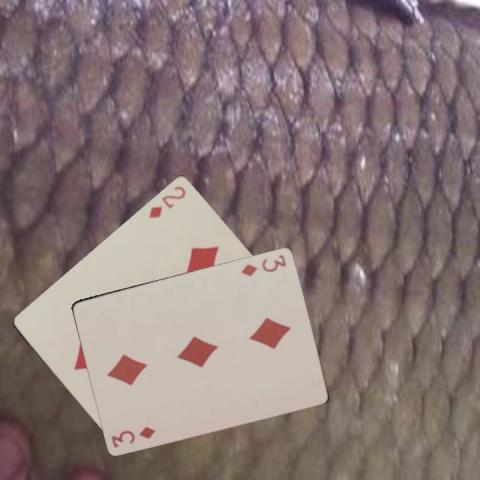2d: (146, 183, 188, 220)
3d: (238, 252, 288, 278), (109, 423, 157, 449)
